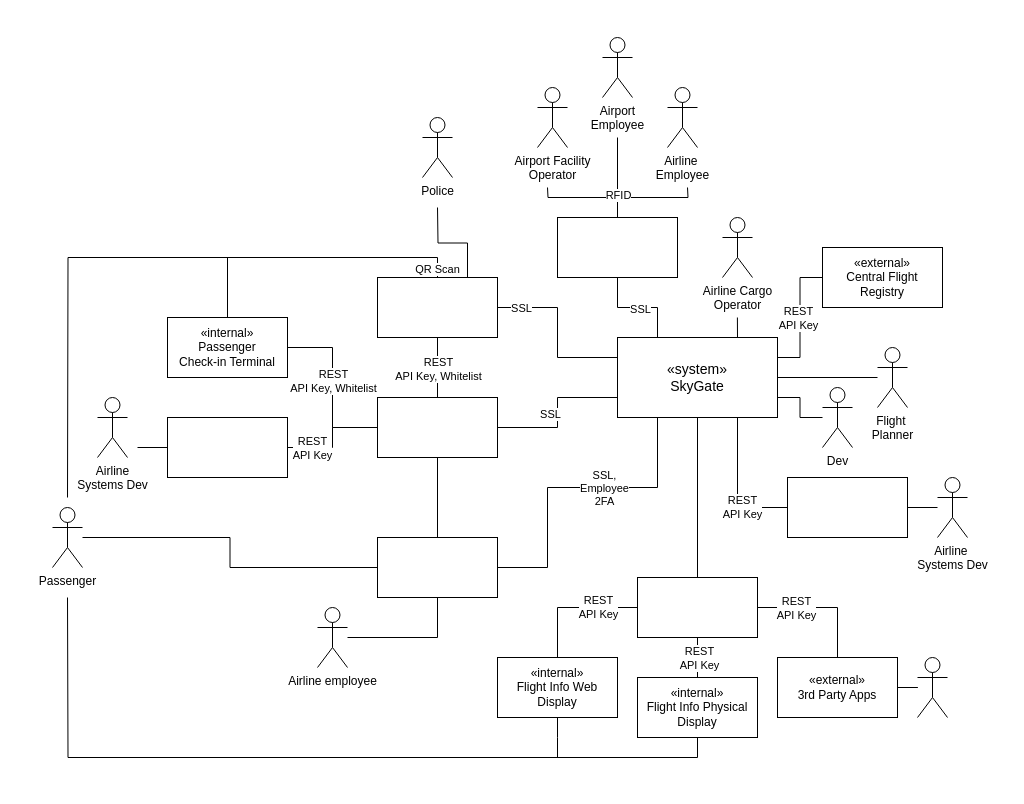
Image size: 1024x804. Some labels were removed from this diagram. Each missing label, with the centre of its shape:
3rd Party App Dev: point 932,687
«external» Airline Check-in Systems: point 227,447
«external» Airline Systems: point 847,507
«internal device» Employee Access Checkpoint: point 617,247
«internal device» Passenger Access Checkpoint: point 437,307
«internal» Boarding Pass API: point 437,427
«internal» Cargo/Passenger Check-in Terminal: point 437,567
«internal» Flight Info API: point 697,607
